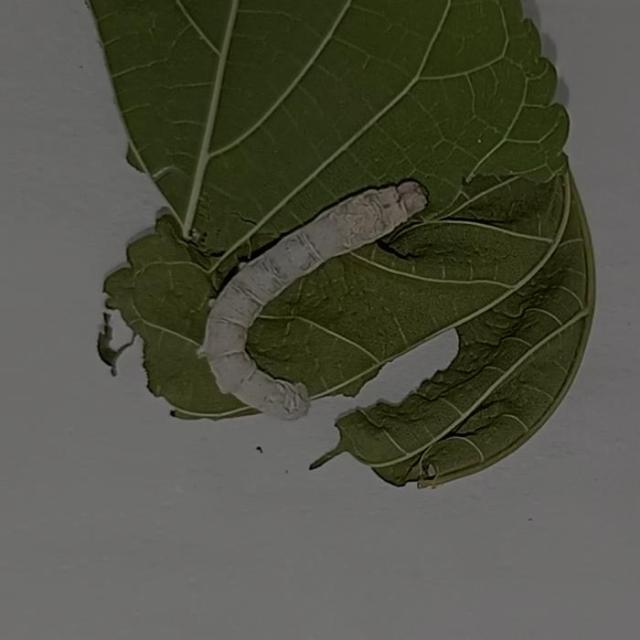Healthy: (186, 165, 434, 435)
